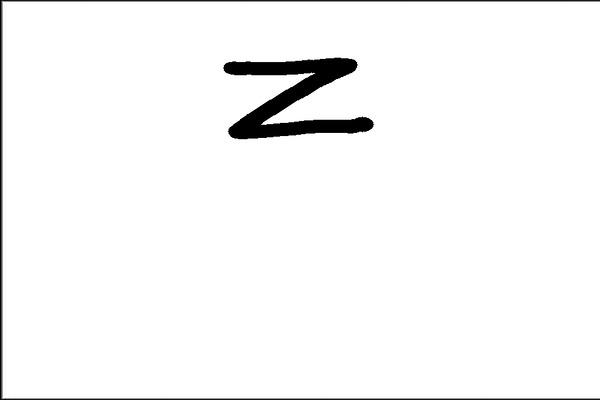Z: (215, 50, 380, 142)
